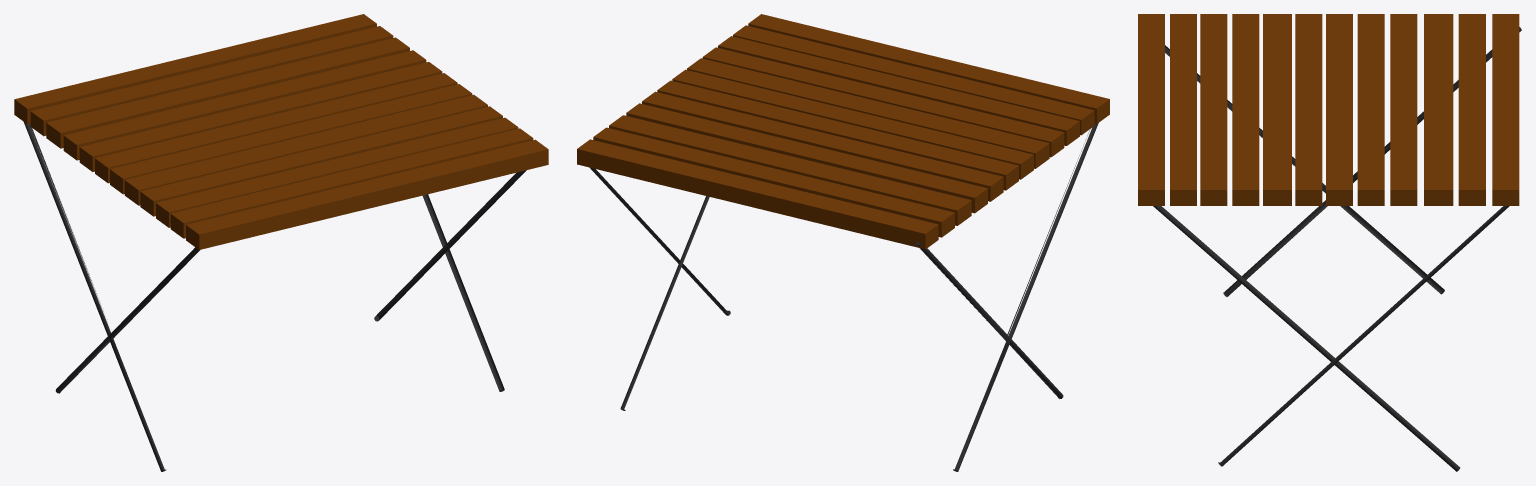
File: Mesa.fbx
3 renders of one model, left to right at view 1: azimuth 30°, elevation 25°; view 2: azimuth 150°, elevation 25°; view 3: azimuth 270°, elevation 25°, orthographic. The views are drawn at different scales.
Visible parts, largest first — view 1: ARRIBA, ABAJO; view 2: ARRIBA, ABAJO; view 3: ARRIBA, ABAJO.
Part boxes in pixels (left/top/right/bottom): ARRIBA: left=14, top=14, right=548, bottom=249; ABAJO: left=24, top=122, right=526, bottom=471; ARRIBA: left=577, top=14, right=1109, bottom=249; ABAJO: left=590, top=123, right=1098, bottom=471; ARRIBA: left=1138, top=14, right=1519, bottom=205; ABAJO: left=1153, top=27, right=1521, bottom=471.
Size of the model in its own units: 52.49 by 40.34 by 48.4.
